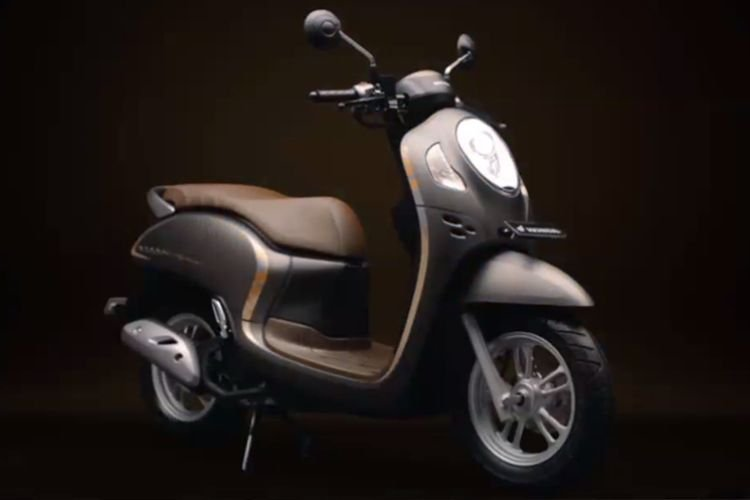motor: (114, 64, 613, 491)
